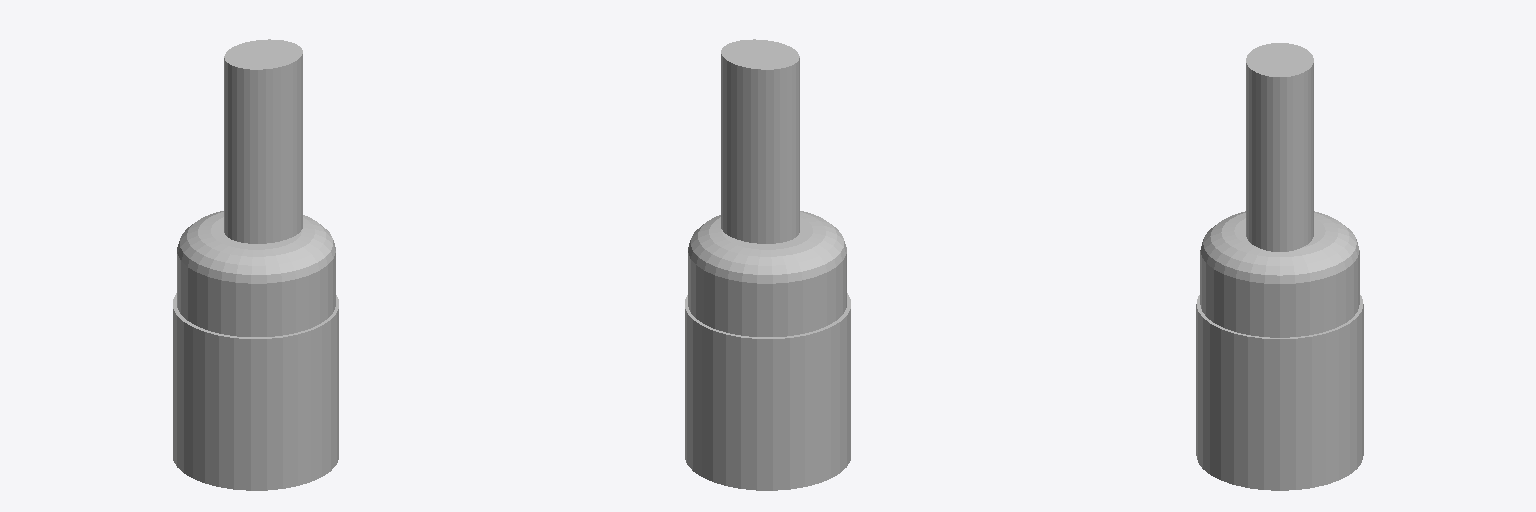
The model's file is sinfoco.obj.
The picture shows the model from 3 angles: view 1: azimuth 30°, elevation 25°; view 2: azimuth 150°, elevation 25°; view 3: azimuth 270°, elevation 25°; orthographic projection.
Visible parts, largest first — view 1: Cylinder.004_Cylinder.010, Cylinder.001_Cylinder.005, Cylinder; view 2: Cylinder.004_Cylinder.010, Cylinder.001_Cylinder.005, Cylinder; view 3: Cylinder.004_Cylinder.010, Cylinder.001_Cylinder.005, Cylinder.
Boxes of the visible parts, x1=… form: Cylinder.004_Cylinder.010: x1=173, y1=293, x2=338, y2=490; Cylinder.001_Cylinder.005: x1=177, y1=211, x2=335, y2=336; Cylinder: x1=224, y1=39, x2=302, y2=243; Cylinder.004_Cylinder.010: x1=685, y1=293, x2=850, y2=490; Cylinder.001_Cylinder.005: x1=688, y1=211, x2=846, y2=336; Cylinder: x1=721, y1=39, x2=799, y2=243; Cylinder.004_Cylinder.010: x1=1196, y1=295, x2=1363, y2=490; Cylinder.001_Cylinder.005: x1=1200, y1=211, x2=1359, y2=337; Cylinder: x1=1246, y1=43, x2=1313, y2=251.
Bounding box in the file's own units: 0.0998 × 0.2627 × 0.0998.